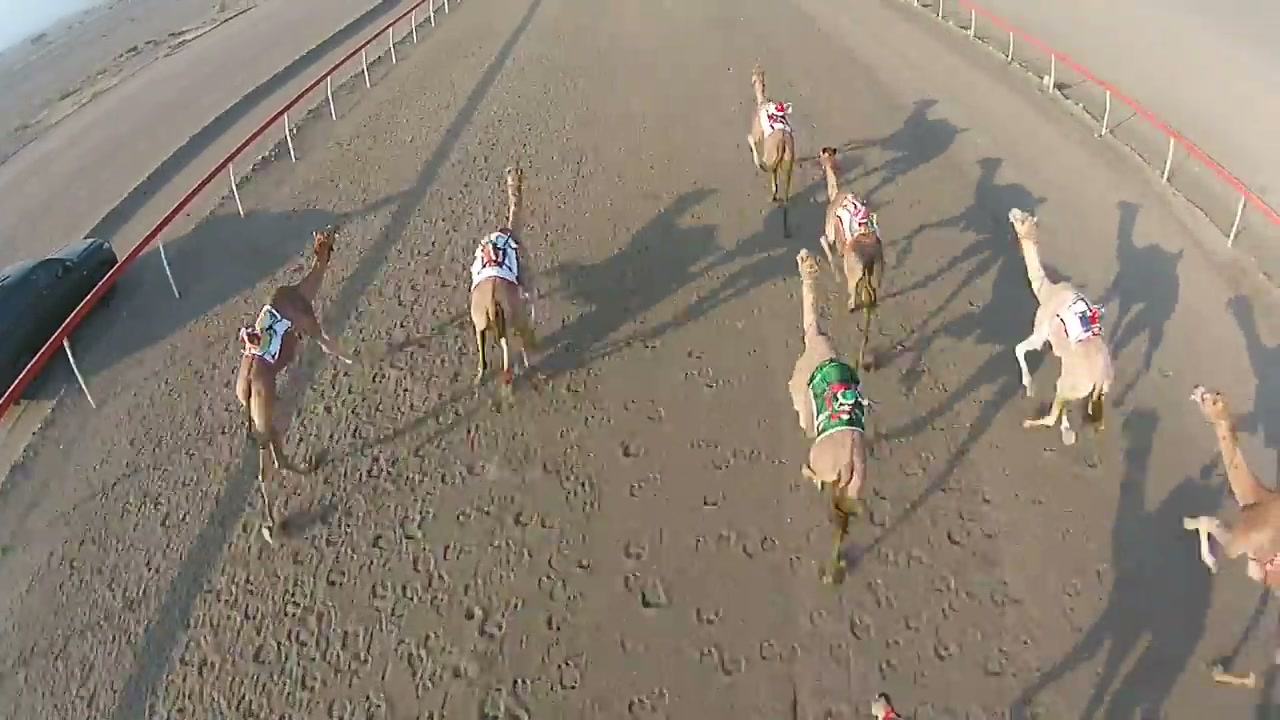animal_footprint: (208, 318, 746, 719), (753, 371, 1135, 709)
